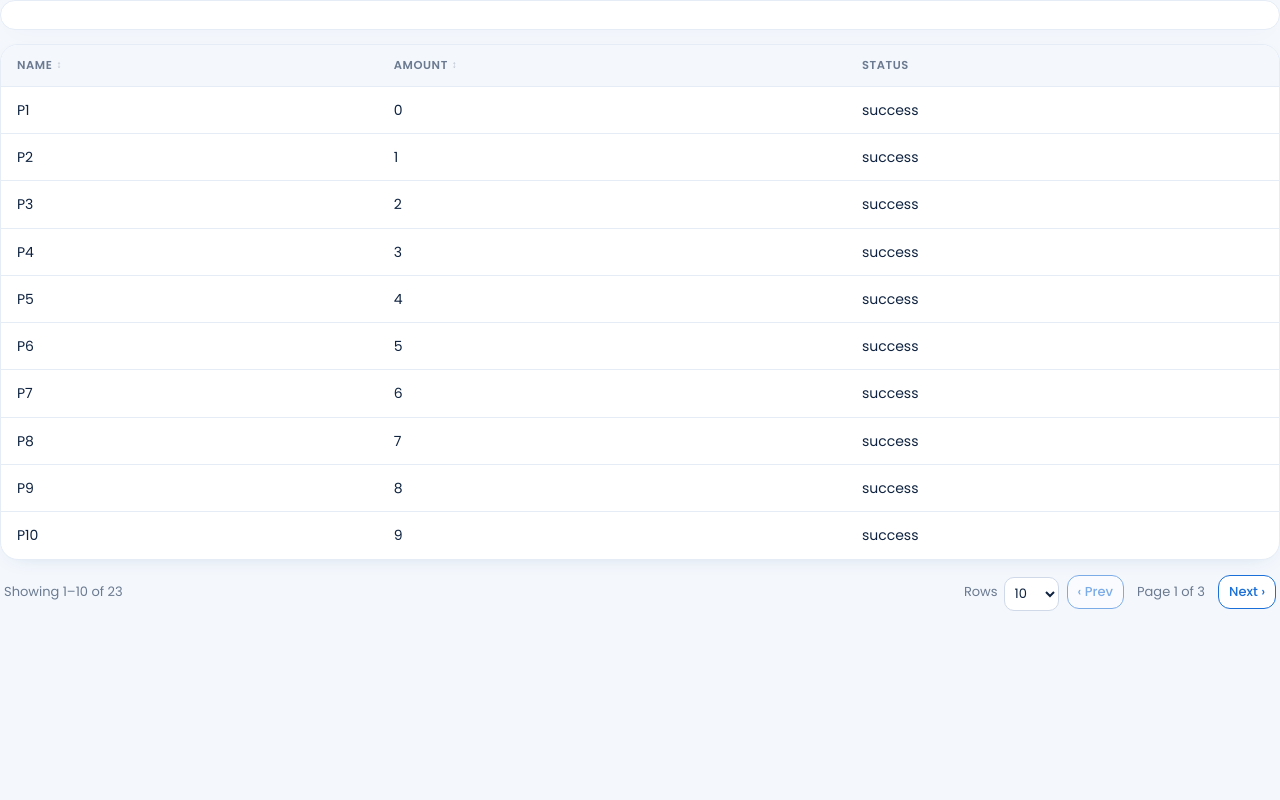
Scenario: DataTable › pages the rows
The width and height of the screenshot is (1280, 800).
Later steps or results of the test are not shown.
Step 1. Click the button "Next ›" → (1247,592), box [1218,575,1276,609]
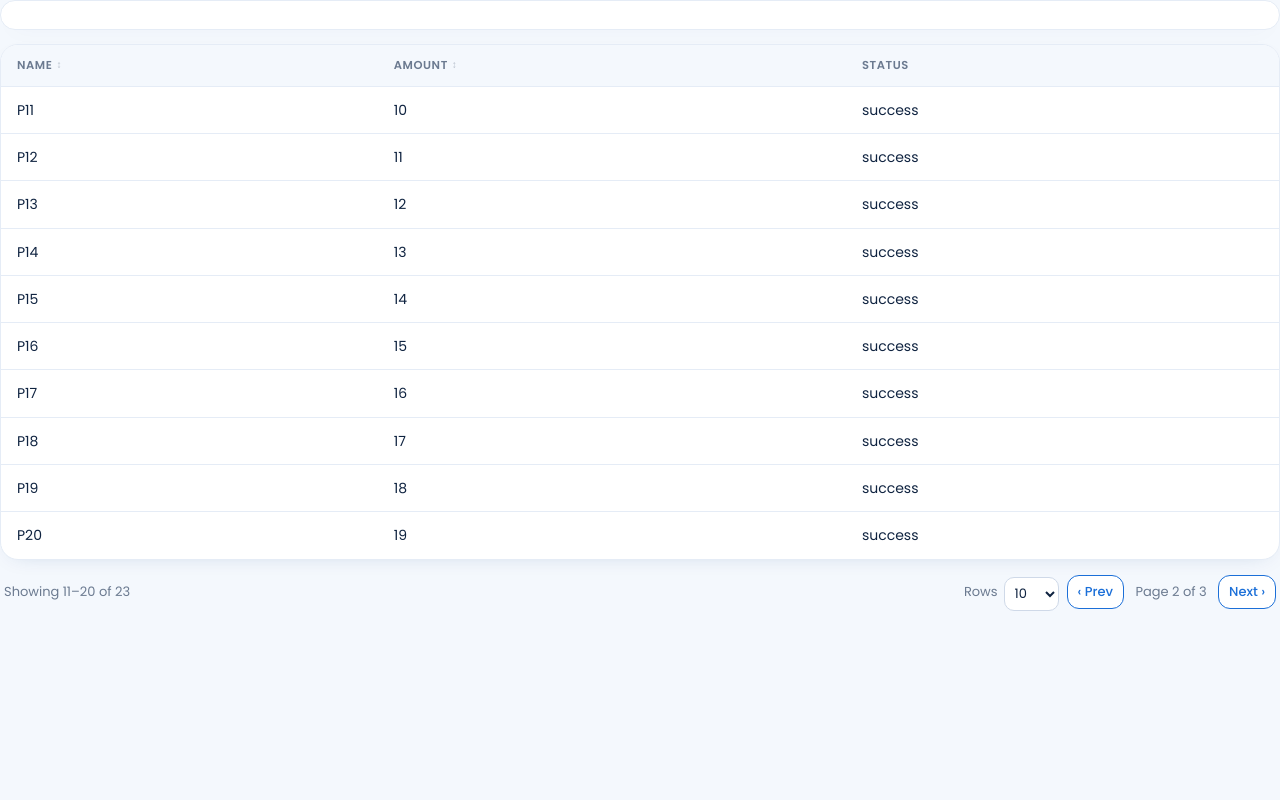
Check: the text "Page 2 of 3" is shown, box [1132,583,1210,602]
